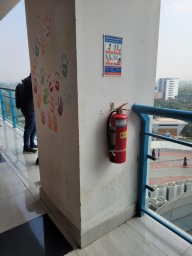fire_extinguisher: (77, 83, 123, 113)
